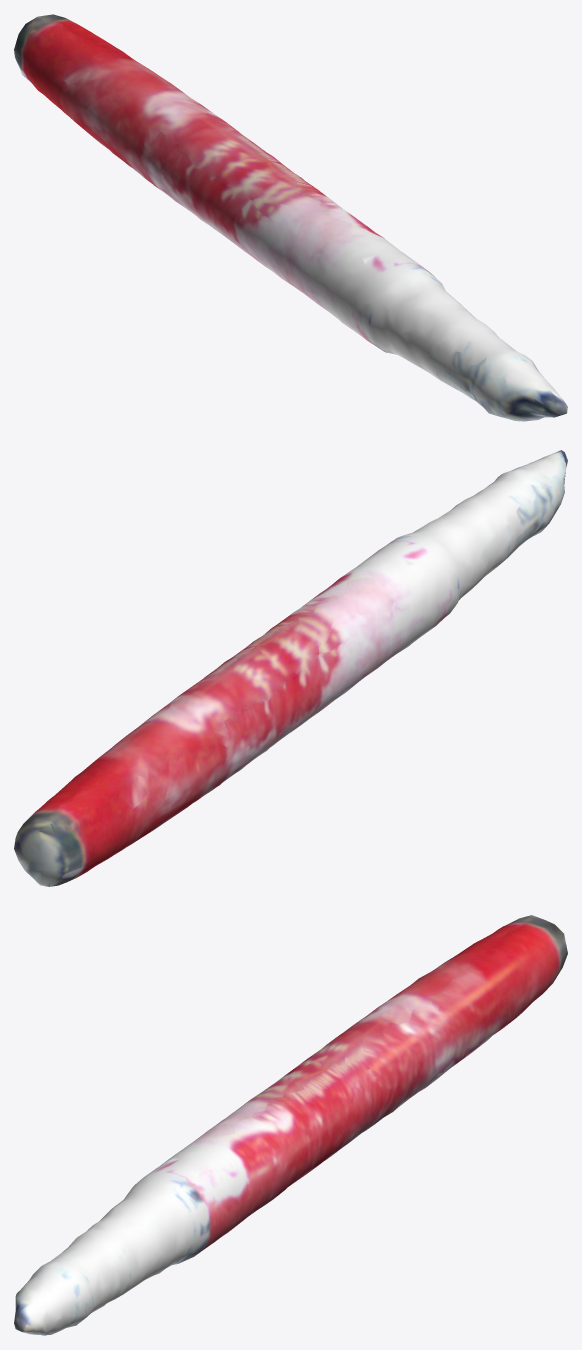
File: scan_align.obj
3 views of the same model, one above another, from view 1: azimuth 30°, elevation 25°; view 2: azimuth 150°, elevation 25°; view 3: azimuth 330°, elevation 25° (orthographic). The views are drawn at different scales.
Bounding box in the file's own units: 0.01 × 0.0102 × 0.1141.
Materials: 1 (1 with a texture image).
